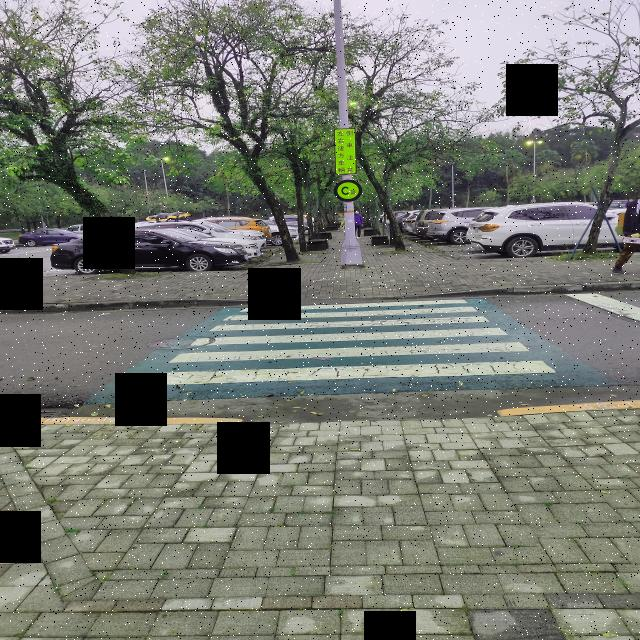zebra_crossing: (307, 219, 640, 513)
